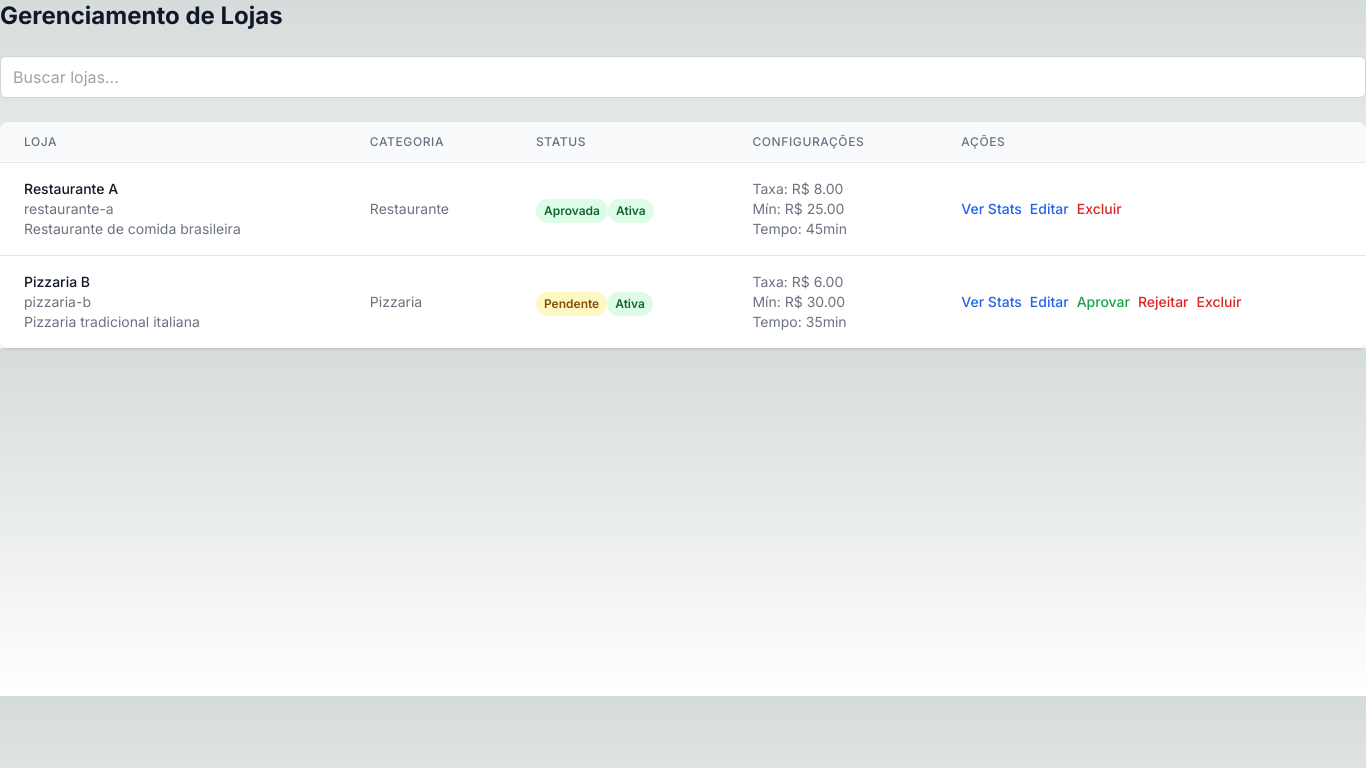
Gerenciamento de Lojas - Integração › Listagem de Lojas › deve filtrar lojas por busca
This screenshot has width=1366, height=768.
Expected: the text "Restaurante A" is shown, [24,180,118,197]
# Buscar por "Pizzaria"
Type "Pizzaria" into the field with placeholder "Buscar lojas...".
click(683, 77); type("Pizzaria")  # box [0,56,1365,98]
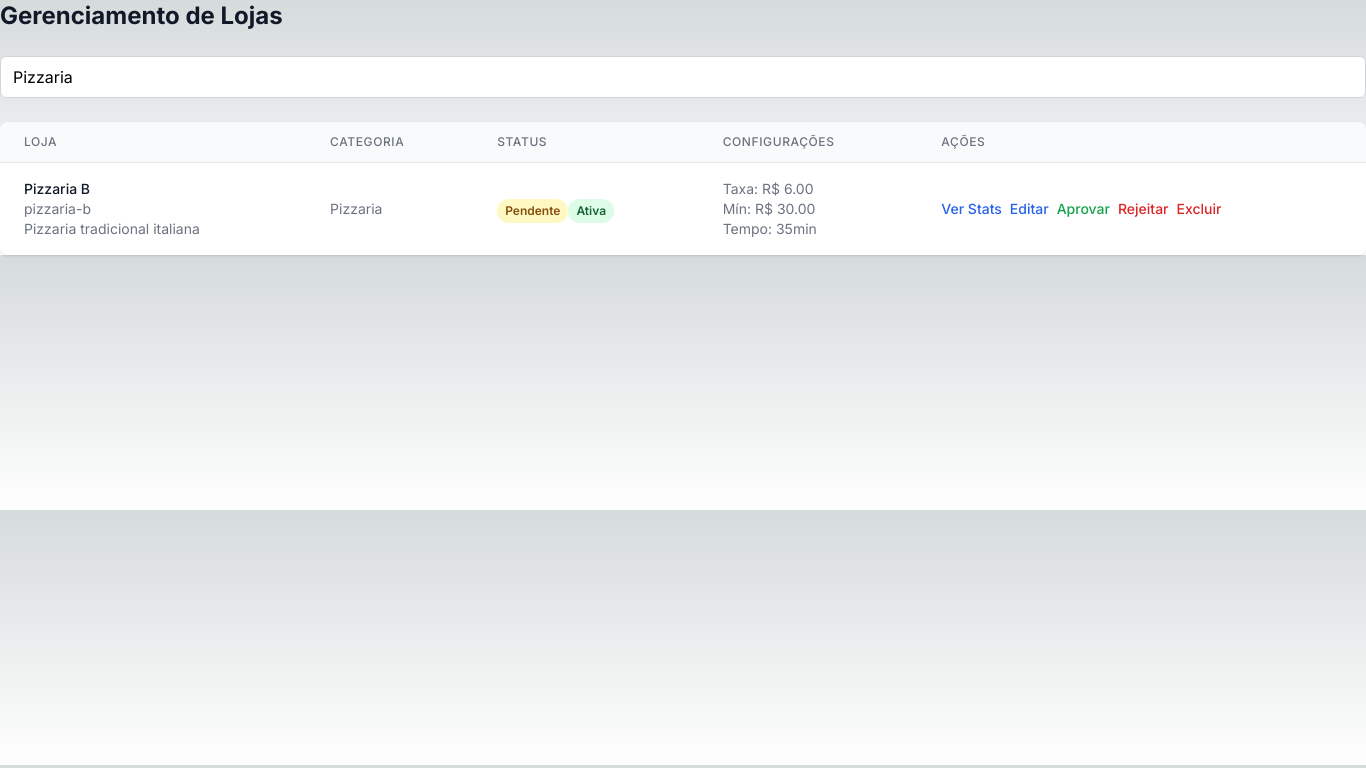
Expected: the text "Pizzaria B" is shown, [24,180,90,197]
Now the text "Restaurante A" is gone
